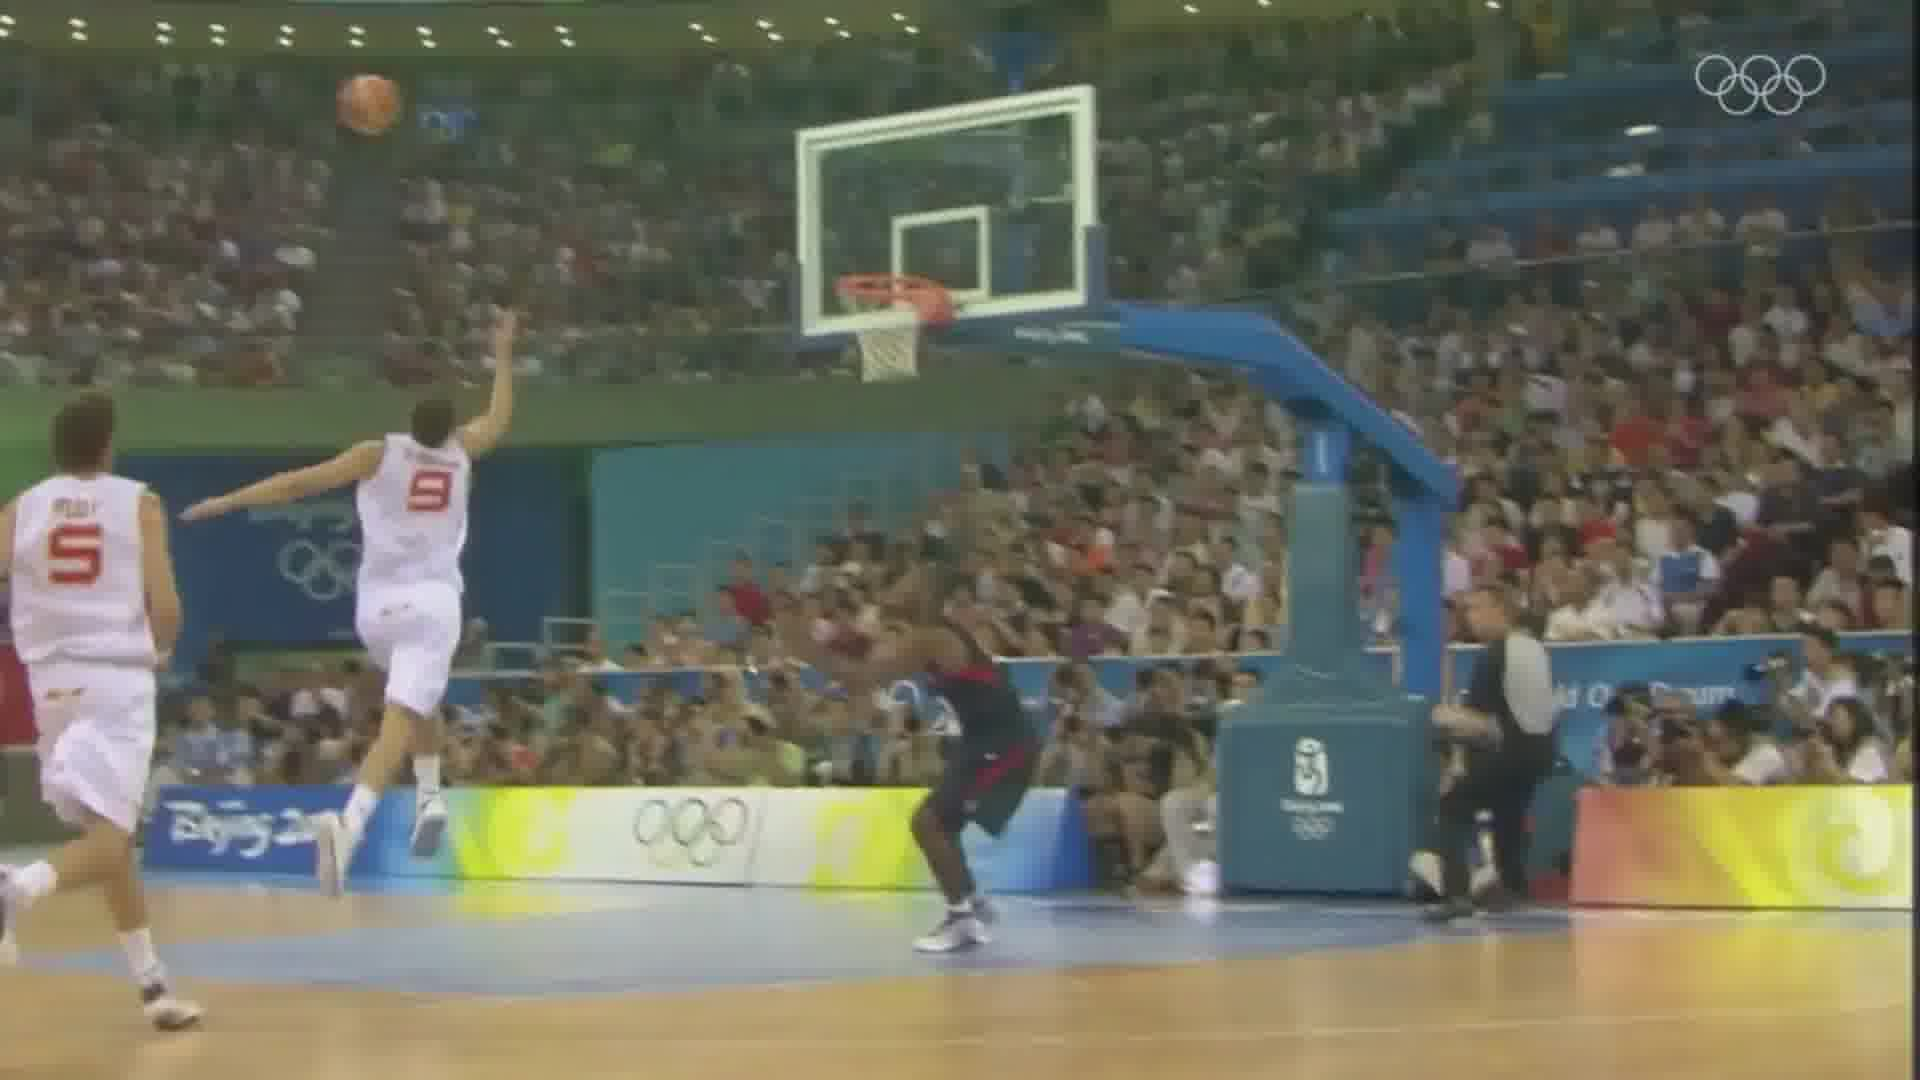ball: (326, 71, 409, 144)
net: (832, 264, 938, 386)
